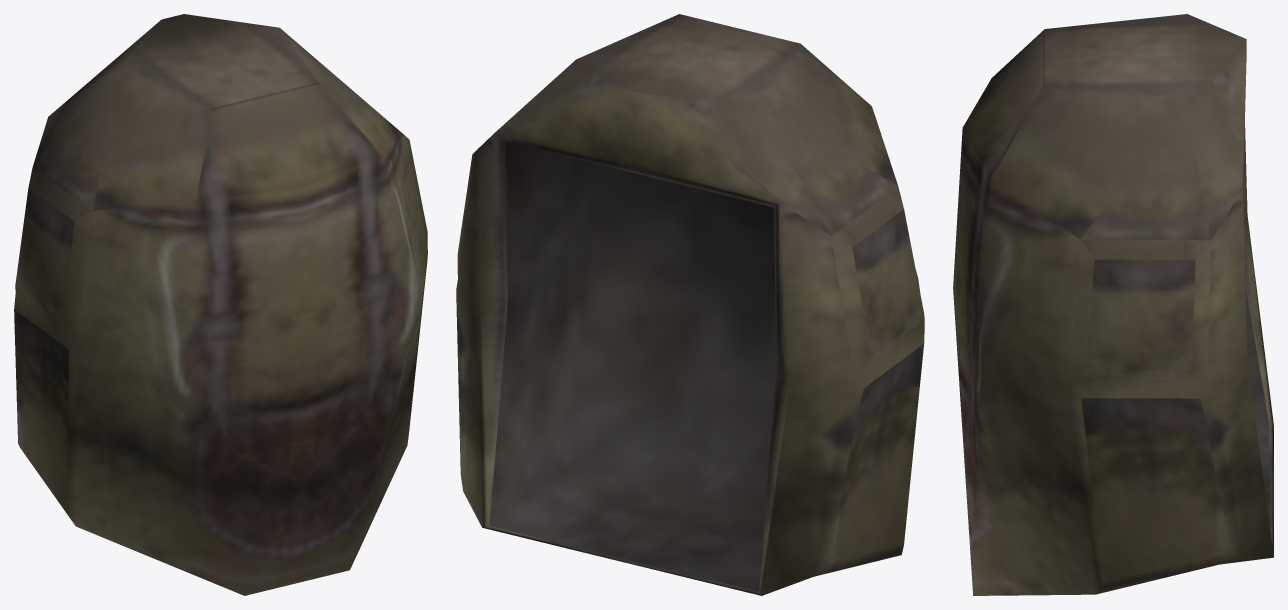
The model's file is Backpack.fbx.
3 views of the same model, side by side, from view 1: azimuth 30°, elevation 25°; view 2: azimuth 150°, elevation 25°; view 3: azimuth 270°, elevation 25° (orthographic). The views are drawn at different scales.
Parts seen in each view (by area): view 1: Plane; view 2: Plane; view 3: Plane.
Boxes of the visible parts, bbox=[...] form: Plane: bbox=[14, 14, 427, 595]; Plane: bbox=[456, 14, 924, 595]; Plane: bbox=[953, 14, 1273, 595].
Bounding box in the file's own units: 38.13 × 47.56 × 26.46.
1 material, 1 textured.
